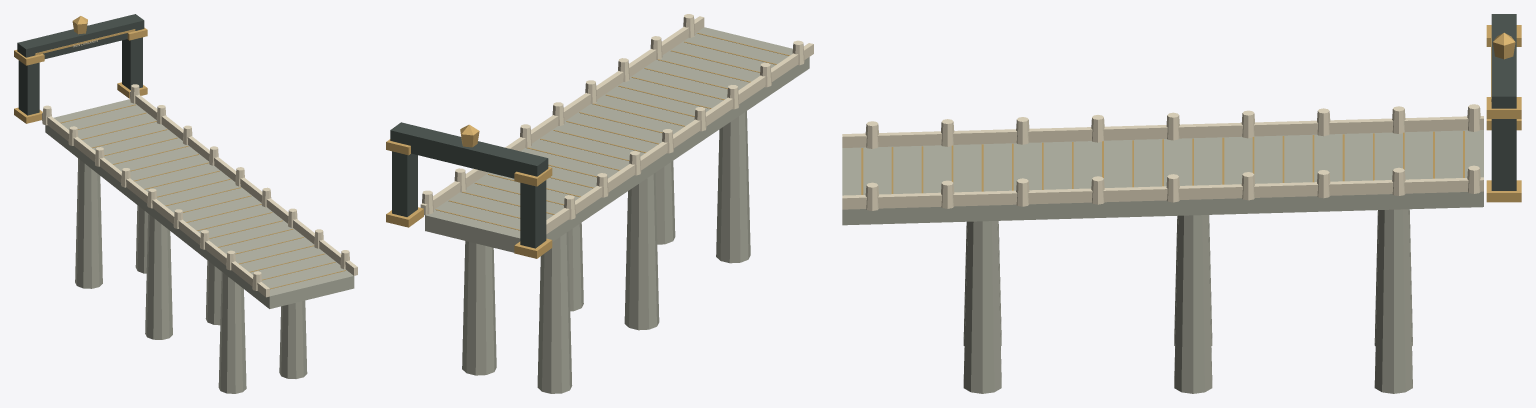
File: Branch_IronLowlands.glb
3 views of the same model, side by side, from view 1: azimuth 30°, elevation 25°; view 2: azimuth 150°, elevation 25°; view 3: azimuth 270°, elevation 25° (orthographic). The views are drawn at different scales.
Parts seen in each view (by area): view 1: Branch_IronLowlands_Sanctuary limestone_0_2, Branch_IronLowlands_Sanctuary limestone_-1_2, Branch_IronLowlands_IronLowlands_dark_0_2, Branch_IronLowlands_Warm ivory_0_2, Branch_IronLowlands_Warm ivory_-1_2, Branch_IronLowlands_Sanctuary limestone_-1_1, Branch_IronLowlands_Sanctuary limestone_0_1, Branch_IronLowlands_Aged gold_0_2, Branch_IronLowlands_IronLowlands_dark_-1_2, Branch_IronLowlands_IronLowlands_accent_-1_2, Branch_IronLowlands_Aged gold_0_1, Branch_IronLowlands_IronLowlands_accent_0_2 (+2 smaller); view 2: Branch_IronLowlands_Sanctuary limestone_0_2, Branch_IronLowlands_Sanctuary limestone_-1_2, Branch_IronLowlands_IronLowlands_dark_0_2, Branch_IronLowlands_Sanctuary limestone_-1_1, Branch_IronLowlands_Warm ivory_-1_2, Branch_IronLowlands_Warm ivory_0_2, Branch_IronLowlands_Aged gold_0_2, Branch_IronLowlands_IronLowlands_dark_-1_2, Branch_IronLowlands_Sanctuary limestone_0_1, Branch_IronLowlands_IronLowlands_accent_-1_2, Branch_IronLowlands_Aged gold_0_1, Branch_IronLowlands_IronLowlands_accent_0_2 (+2 smaller); view 3: Branch_IronLowlands_Sanctuary limestone_0_2, Branch_IronLowlands_Warm ivory_0_2, Branch_IronLowlands_Warm ivory_-1_2, Branch_IronLowlands_Sanctuary limestone_0_1, Branch_IronLowlands_IronLowlands_dark_0_2, Branch_IronLowlands_Aged gold_0_2, Branch_IronLowlands_IronLowlands_accent_0_2, Branch_IronLowlands_Warm ivory_0_1, Branch_IronLowlands_Warm ivory_-1_1, Branch_IronLowlands_Sanctuary limestone_-1_2, Branch_IronLowlands_Aged gold_0_1, Branch_IronLowlands_IronLowlands_accent_-1_2.
Part boxes in pixels (x1=…): Branch_IronLowlands_Sanctuary limestone_0_2: x1=45, y1=99, x2=354, y2=325; Branch_IronLowlands_Sanctuary limestone_-1_2: x1=75, y1=158, x2=172, y2=339; Branch_IronLowlands_IronLowlands_dark_0_2: x1=17, y1=14, x2=144, y2=90; Branch_IronLowlands_Warm ivory_0_2: x1=73, y1=39, x2=357, y2=275; Branch_IronLowlands_Warm ivory_-1_2: x1=42, y1=105, x2=269, y2=297; Branch_IronLowlands_Sanctuary limestone_-1_1: x1=218, y1=272, x2=246, y2=393; Branch_IronLowlands_Sanctuary limestone_0_1: x1=279, y1=300, x2=307, y2=378; Branch_IronLowlands_Aged gold_0_2: x1=60, y1=104, x2=272, y2=230; Branch_IronLowlands_IronLowlands_dark_-1_2: x1=18, y1=60, x2=39, y2=115; Branch_IronLowlands_IronLowlands_accent_-1_2: x1=14, y1=16, x2=87, y2=123; Branch_IronLowlands_Aged gold_0_1: x1=209, y1=220, x2=345, y2=289; Branch_IronLowlands_IronLowlands_accent_0_2: x1=35, y1=27, x2=147, y2=98; Branch_IronLowlands_Sanctuary limestone_0_2: x1=425, y1=27, x2=809, y2=375; Branch_IronLowlands_Sanctuary limestone_-1_2: x1=537, y1=173, x2=659, y2=393; Branch_IronLowlands_IronLowlands_dark_0_2: x1=390, y1=122, x2=548, y2=216; Branch_IronLowlands_Sanctuary limestone_-1_1: x1=716, y1=111, x2=750, y2=263; Branch_IronLowlands_Warm ivory_-1_2: x1=546, y1=43, x2=813, y2=234; Branch_IronLowlands_Warm ivory_0_2: x1=420, y1=16, x2=704, y2=215; Branch_IronLowlands_Aged gold_0_2: x1=435, y1=94, x2=694, y2=230; Branch_IronLowlands_IronLowlands_dark_-1_2: x1=520, y1=180, x2=546, y2=248; Branch_IronLowlands_Sanctuary limestone_0_1: x1=655, y1=161, x2=675, y2=244; Branch_IronLowlands_IronLowlands_accent_-1_2: x1=460, y1=124, x2=552, y2=258; Branch_IronLowlands_Aged gold_0_1: x1=618, y1=33, x2=789, y2=108; Branch_IronLowlands_IronLowlands_accent_0_2: x1=386, y1=139, x2=423, y2=227; Branch_IronLowlands_Sanctuary limestone_0_2: x1=842, y1=130, x2=1483, y2=393; Branch_IronLowlands_Warm ivory_0_2: x1=842, y1=165, x2=1483, y2=209; Branch_IronLowlands_Warm ivory_-1_2: x1=842, y1=104, x2=1483, y2=147; Branch_IronLowlands_Sanctuary limestone_0_1: x1=963, y1=221, x2=1001, y2=393; Branch_IronLowlands_IronLowlands_dark_0_2: x1=1491, y1=14, x2=1516, y2=190; Branch_IronLowlands_Aged gold_0_2: x1=1072, y1=131, x2=1464, y2=188; Branch_IronLowlands_IronLowlands_accent_0_2: x1=1486, y1=29, x2=1521, y2=202; Branch_IronLowlands_Warm ivory_0_1: x1=865, y1=178, x2=1029, y2=210; Branch_IronLowlands_Warm ivory_-1_1: x1=865, y1=117, x2=1029, y2=148; Branch_IronLowlands_Sanctuary limestone_-1_2: x1=1174, y1=209, x2=1412, y2=345; Branch_IronLowlands_Aged gold_0_1: x1=861, y1=142, x2=1043, y2=194; Branch_IronLowlands_IronLowlands_accent_-1_2: x1=1486, y1=25, x2=1521, y2=130.
Bounding box in the file's own units: 40 × 73 × 136.
